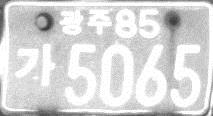0: (97, 41, 135, 108)
5: (62, 41, 98, 107), (168, 43, 202, 109), (136, 8, 161, 39)
6: (133, 43, 168, 108)
8: (112, 7, 138, 39)
가: (14, 42, 57, 88)
광주_O: (59, 7, 114, 36)
